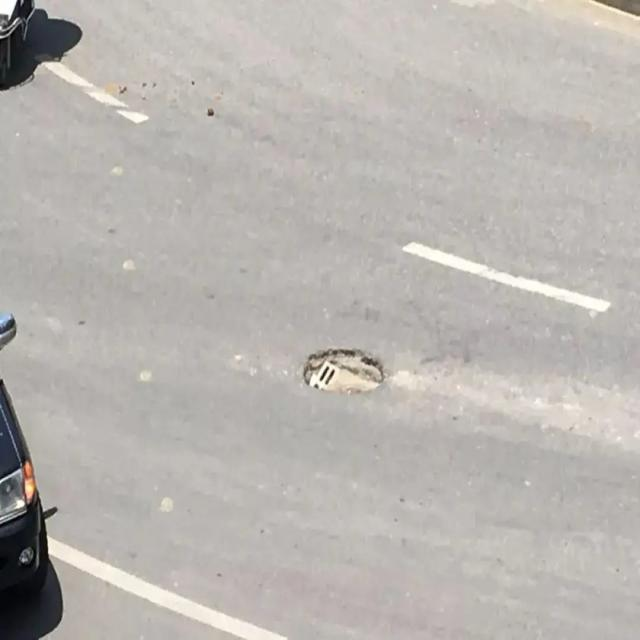Pothole: (303, 348, 384, 392)
